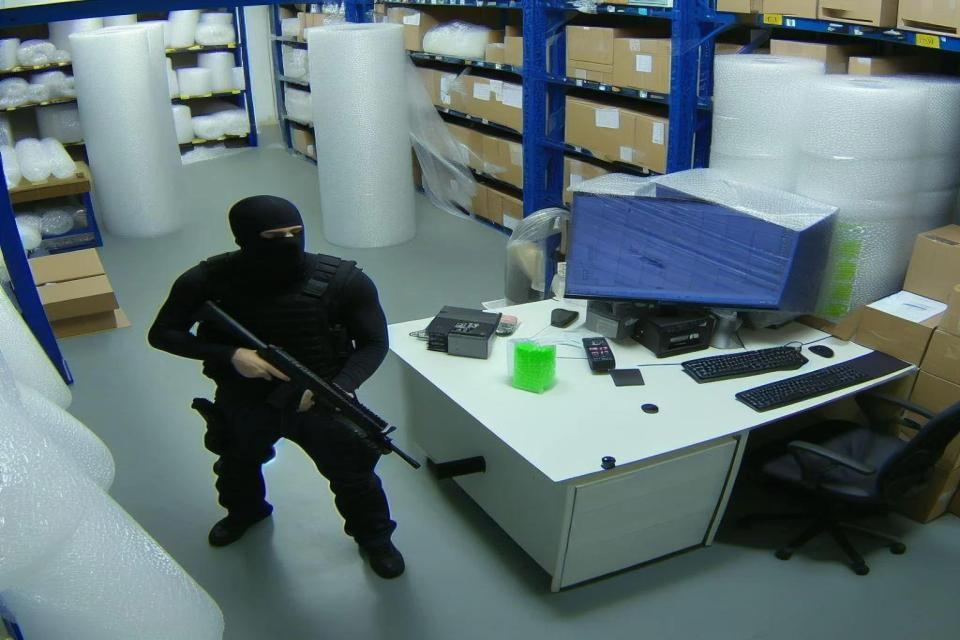non-violence: (138, 190, 439, 584)
weapon: (190, 297, 424, 472)
